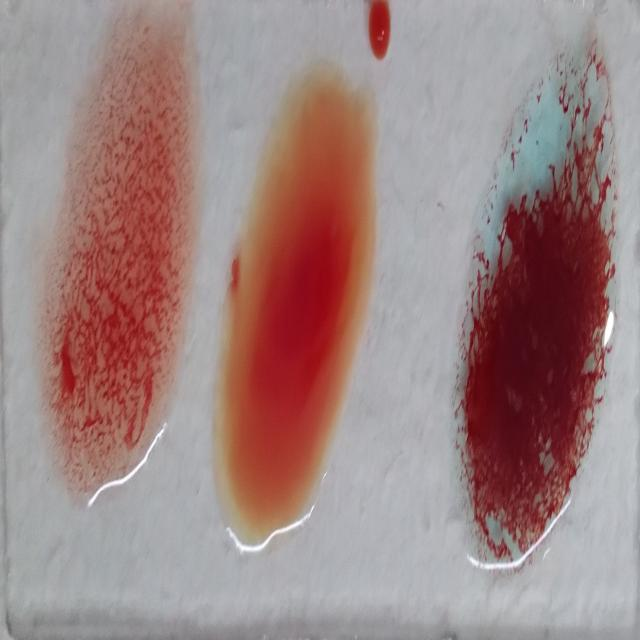A: (454, 38, 622, 570)
D: (49, 23, 179, 509)
